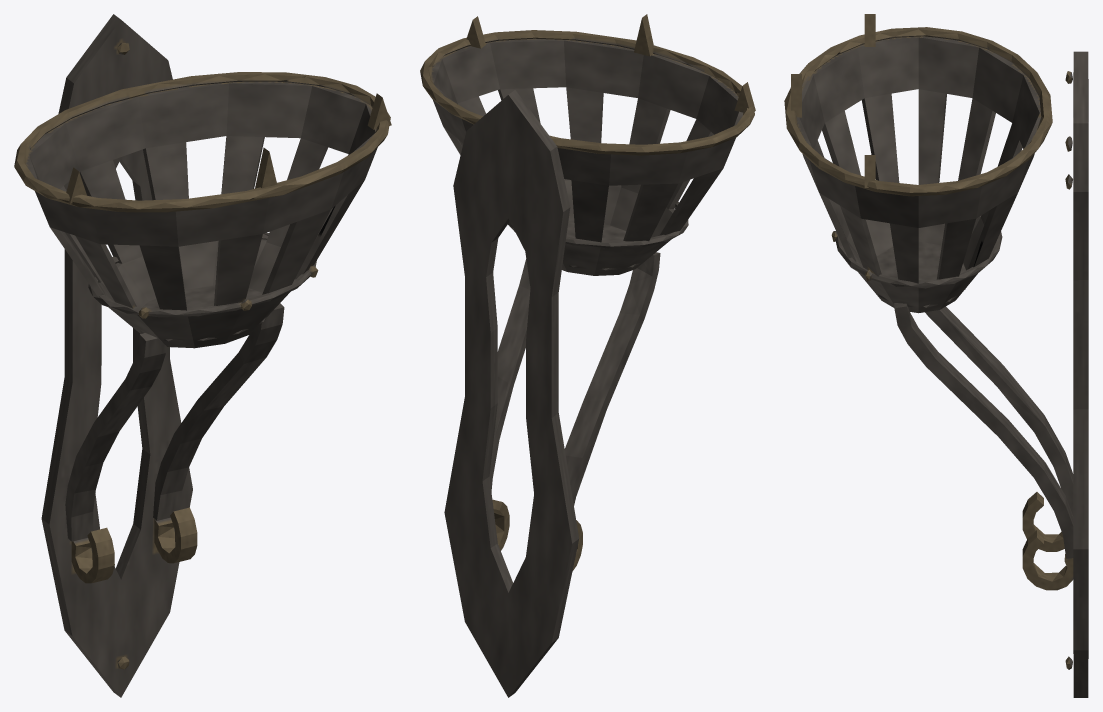
The model's file is sconce-pilot-fallback.glb.
3 renders of one model, left to right at view 1: azimuth 30°, elevation 25°; view 2: azimuth 150°, elevation 25°; view 3: azimuth 270°, elevation 25°, orthographic. The views are drawn at different scales.
Visible parts, largest first — view 1: AshenSconce_LOD0; view 2: AshenSconce_LOD0; view 3: AshenSconce_LOD0.
Part boxes in pixels (x1,y1,x2,y2): AshenSconce_LOD0: (14, 14, 391, 697); AshenSconce_LOD0: (420, 14, 755, 697); AshenSconce_LOD0: (784, 14, 1088, 697).
Size of what is drawn, in the model's own units: 0.5915 by 1.1 by 0.4683.
1 material, 1 textured.
